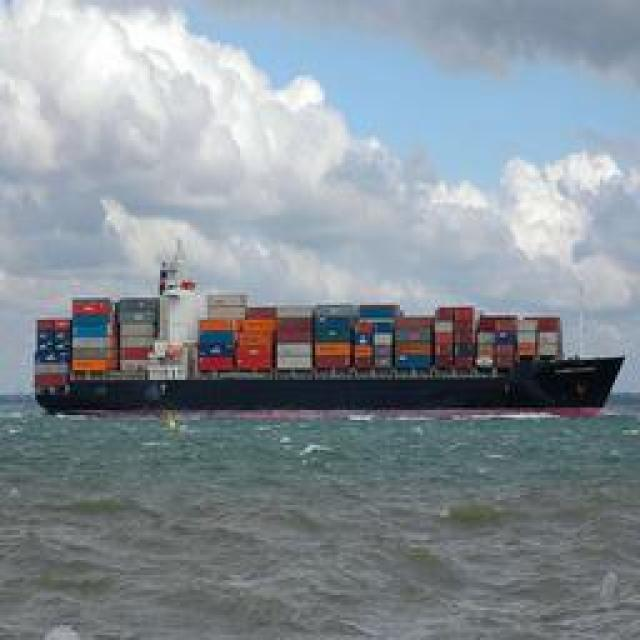CIV_Ship: (9, 260, 629, 422)
